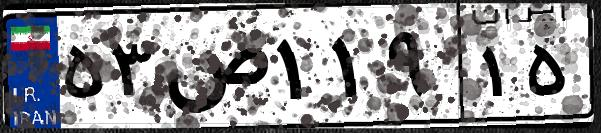1: (270, 28, 330, 110), (330, 28, 385, 110), (475, 38, 525, 113)
3: (110, 28, 158, 98)
5: (57, 26, 110, 100), (525, 38, 570, 115)
9: (385, 28, 445, 110)
ص: (158, 20, 270, 120)
